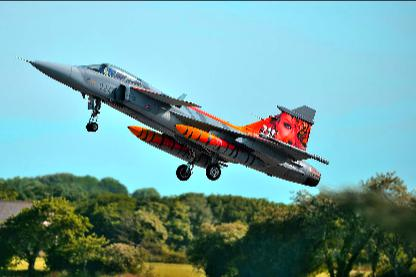JAS39: (10, 54, 328, 185)
